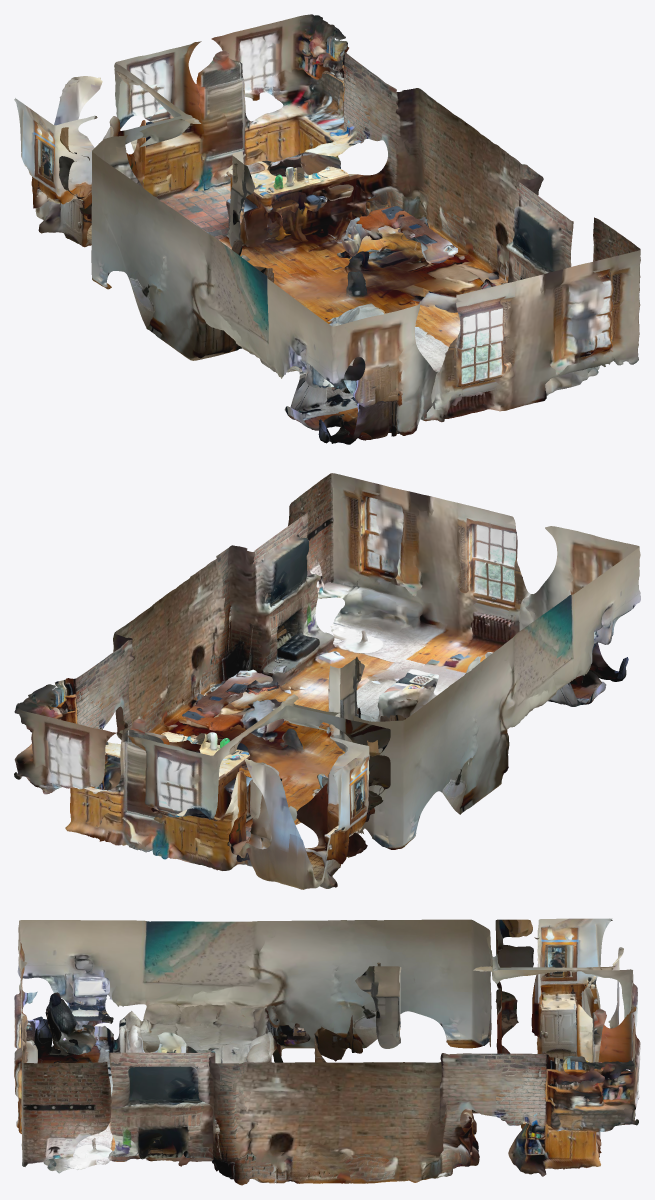
Rendered from room.glb.
3 views of the same model, one above another, from view 1: azimuth 30°, elevation 25°; view 2: azimuth 150°, elevation 25°; view 3: azimuth 270°, elevation 25° (orthographic). The views are drawn at different scales.
Parts seen in each view (by area): view 1: Room • cleaned original scan; view 2: Room • cleaned original scan; view 3: Room • cleaned original scan.
Boxes of the visible parts, <box> form: Room • cleaned original scan: <box>14,14,640,444</box>; Room • cleaned original scan: <box>14,473,640,889</box>; Room • cleaned original scan: <box>14,918,640,1185</box>.
Size of the model in its own units: 5.86 by 2.41 by 10.64.
Materials: 5 (5 with a texture image).
